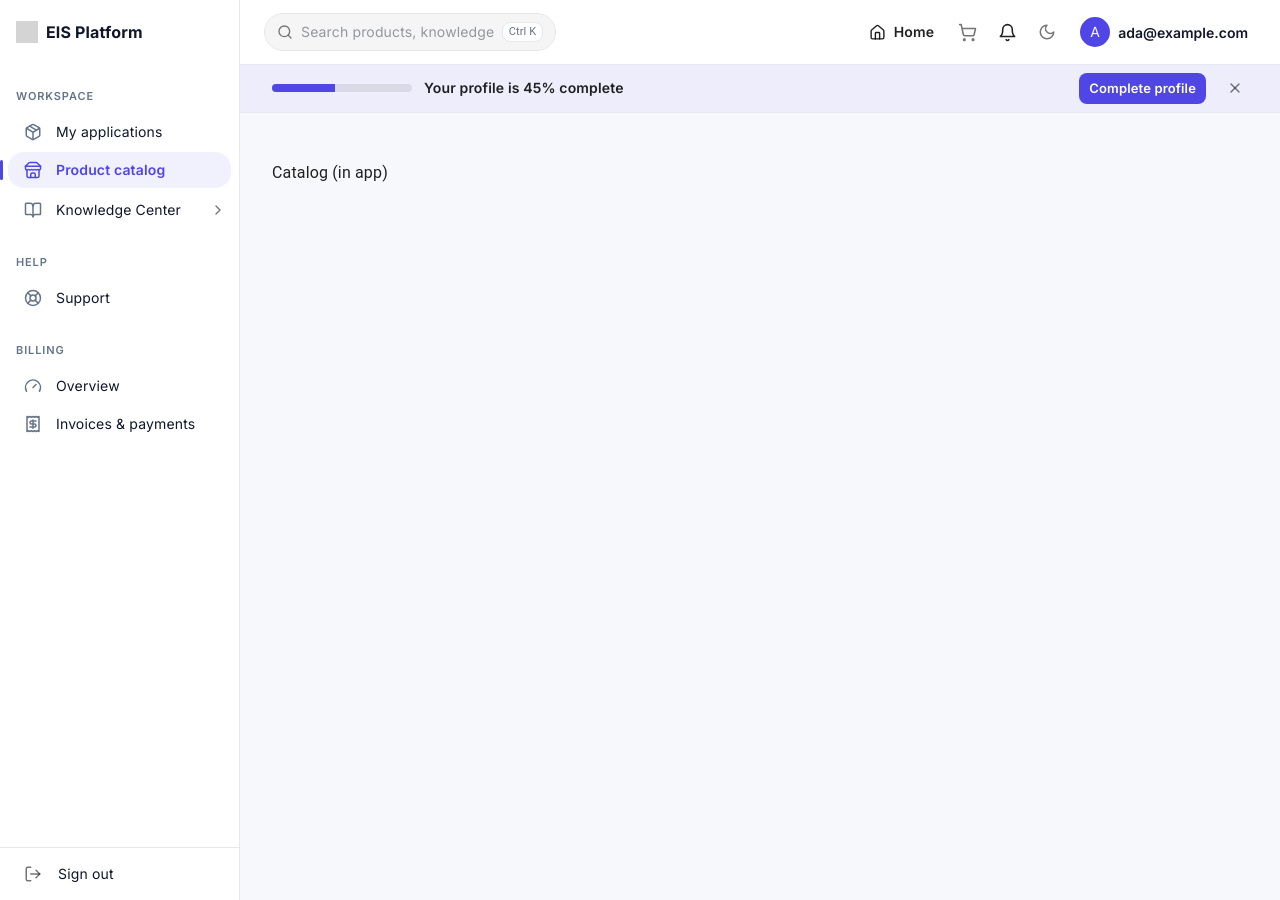
Test: My profile in the shell (C107) › opens My profile from the first account-menu item
Click the button with aria-label "Account menu for ada@example.com" at (1164,32), box x1=1072 y1=9 x2=1256 y2=55
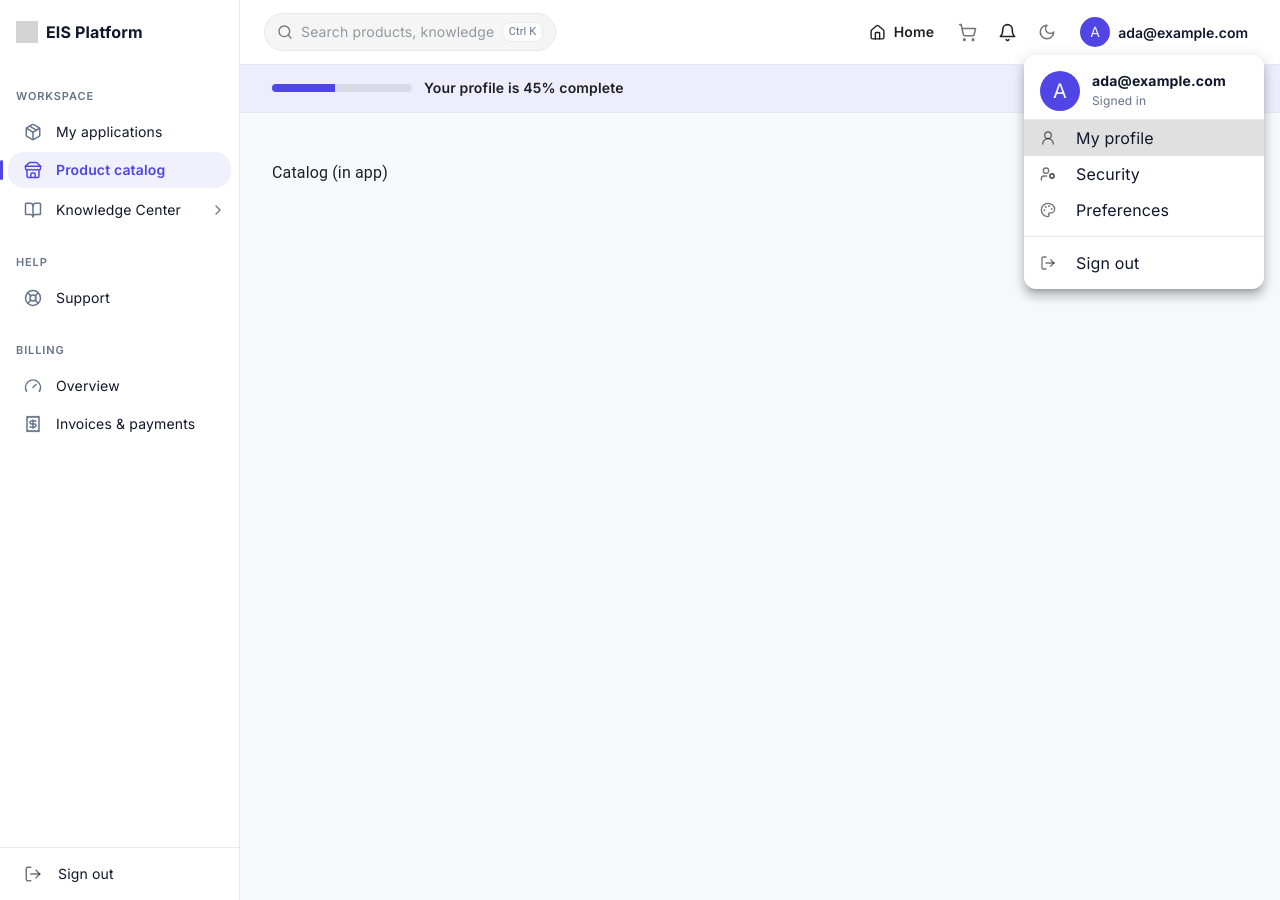
Click the menu item "My profile" at (1144,138), box x1=1024 y1=120 x2=1264 y2=156
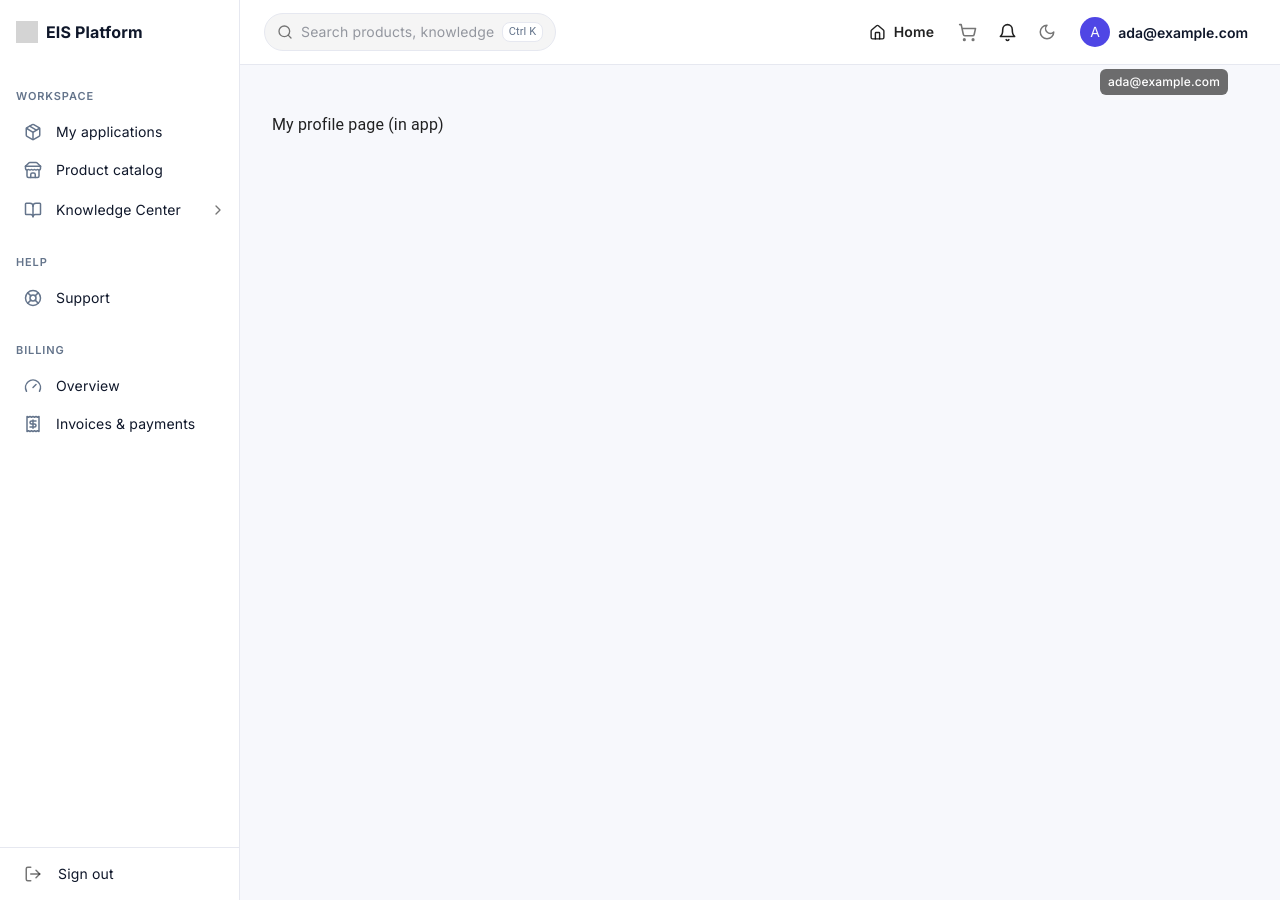
expect the text "My profile page (in app)" is shown: met, box x1=272 y1=115 x2=444 y2=134
